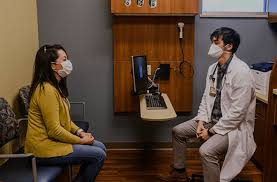Caution: (26, 25, 255, 180)
